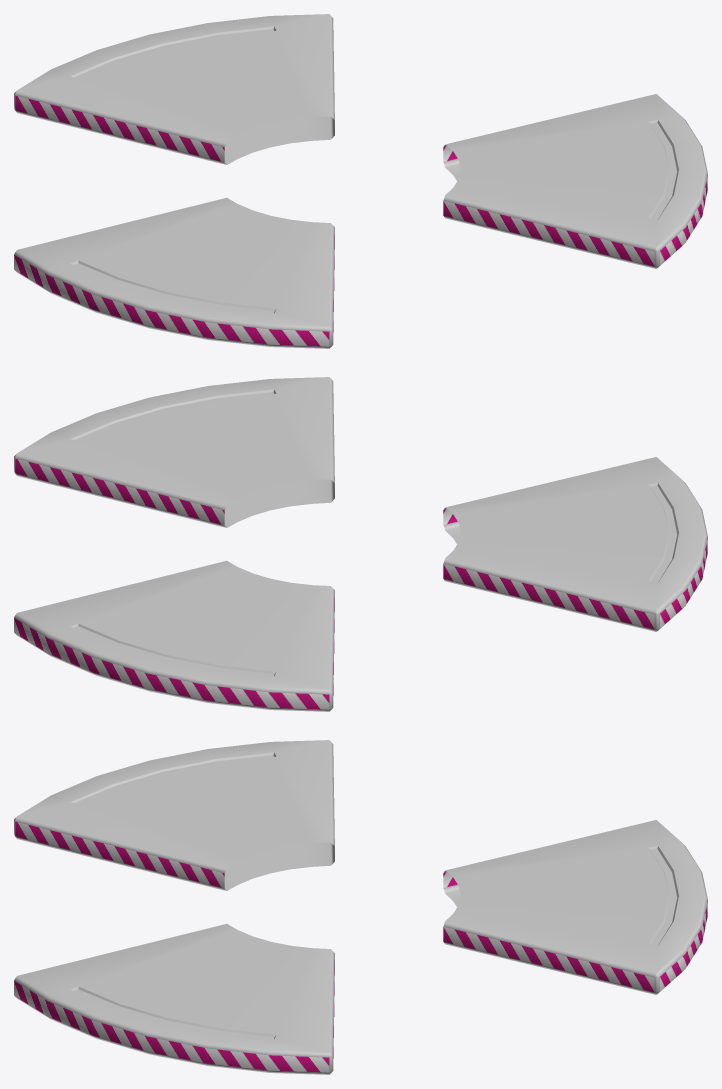
Rendered from obstacle_16_002.fbx.
The picture shows the model from 3 angles, top to bottom: view 1: azimuth 30°, elevation 25°; view 2: azimuth 150°, elevation 25°; view 3: azimuth 270°, elevation 25°; orthographic projection.
Parts seen in each view (by area): view 1: obstacle_16_002; view 2: obstacle_16_002; view 3: obstacle_16_002.
Part boxes in pixels (<box>): obstacle_16_002: <box>14,14,707,348</box>; obstacle_16_002: <box>14,377,707,711</box>; obstacle_16_002: <box>14,740,707,1074</box>.
Size of the model in its own units: 1114 by 1036 by 39.51.
